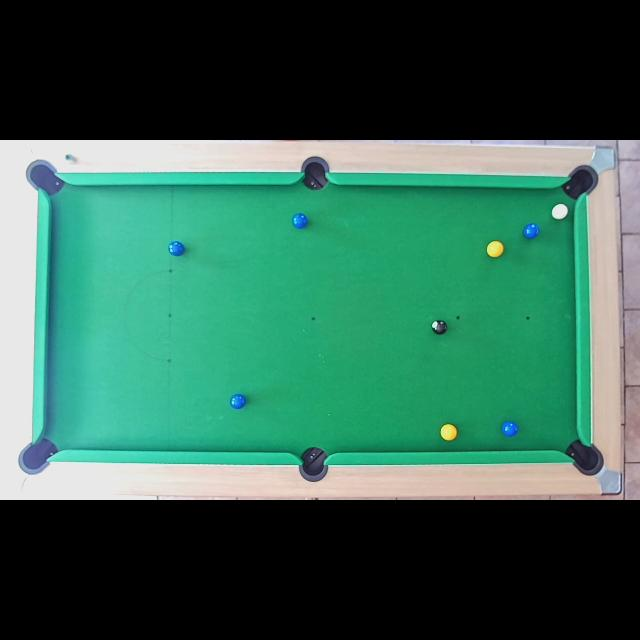Ball: (487, 240, 505, 258), (440, 423, 458, 441), (522, 222, 540, 238), (501, 421, 519, 437), (292, 212, 308, 230), (168, 241, 186, 257), (230, 394, 247, 410), (552, 204, 568, 220), (432, 320, 448, 334)
